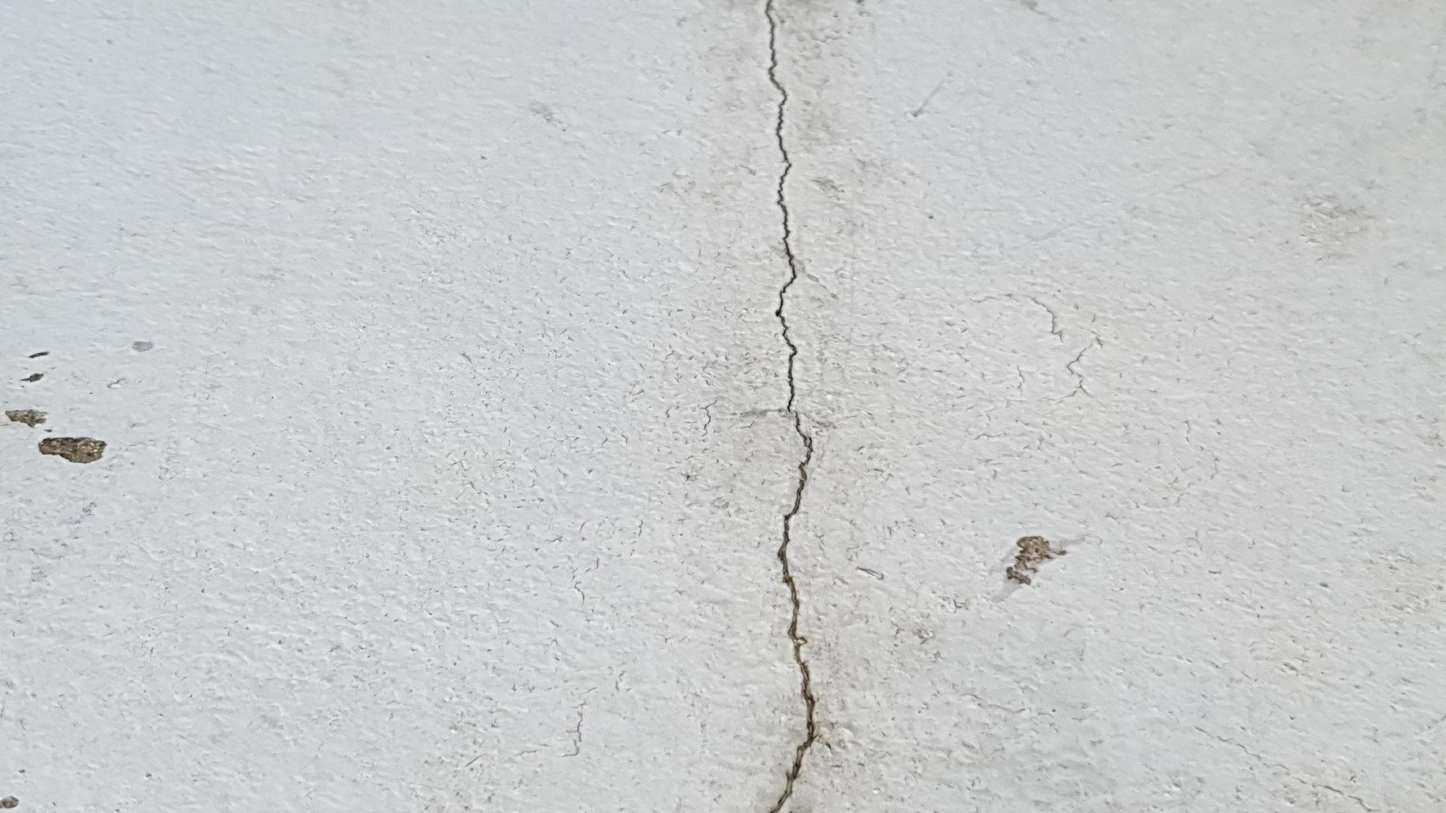crack: (734, 9, 824, 802)
